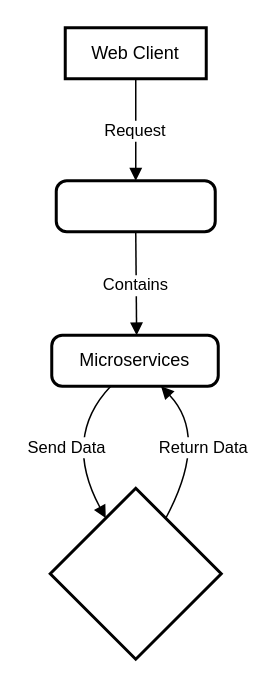
Some shapes in this 276 by 686 pixel diagram are drawn without their labels. The shapes that lost their labels are listed below. From the top down, each one's centre as x and y in pixels, then its label:
the point at 135,205: API Gateway
the point at 135,573: Database
